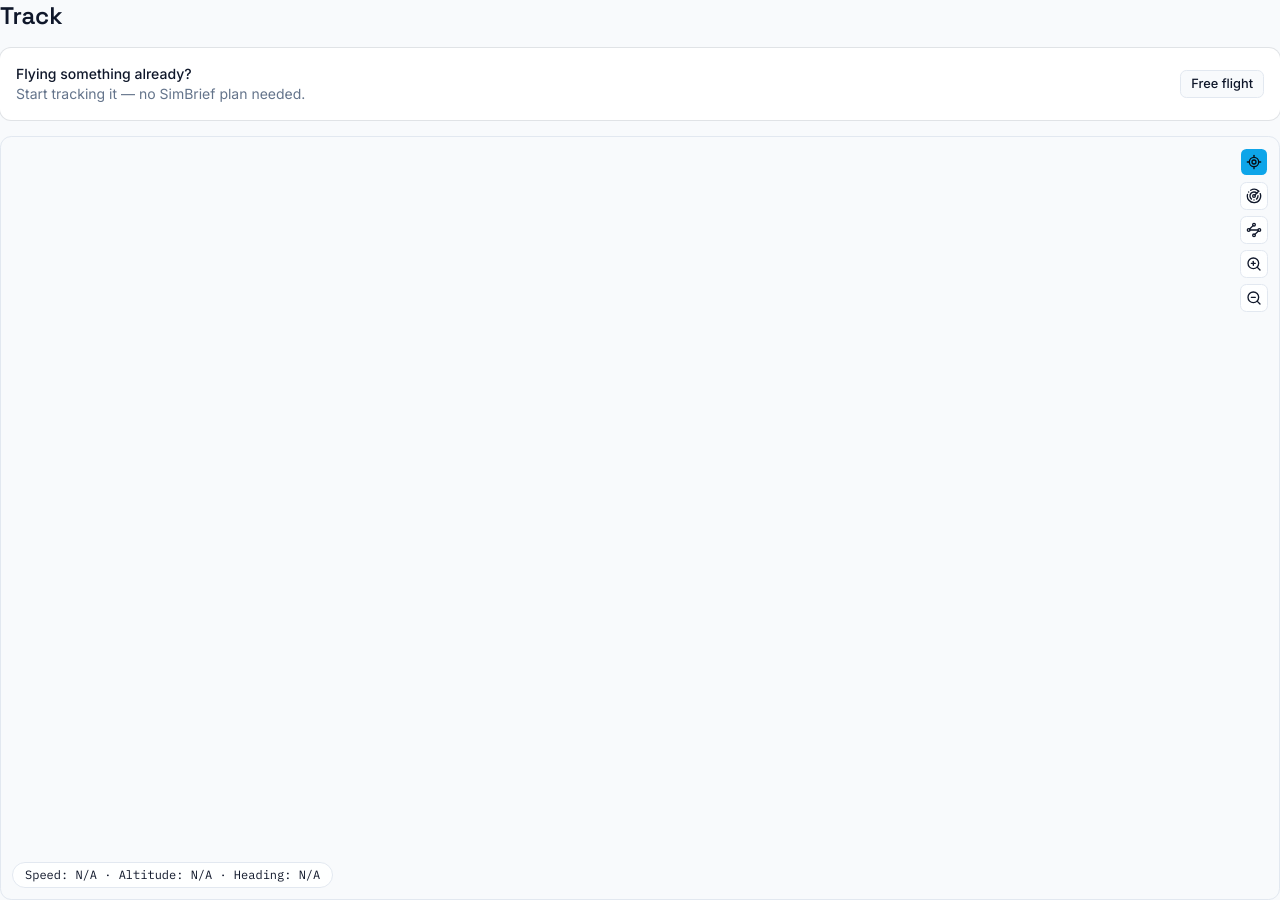
Test: TrackView › free flight (free-flight-tracking.md) › opens the Start a free flight dialog from the Free flight card
The width and height of the screenshot is (1280, 900).
Click the button "Free flight" at (1222, 84), box x1=1180 y1=70 x2=1264 y2=98
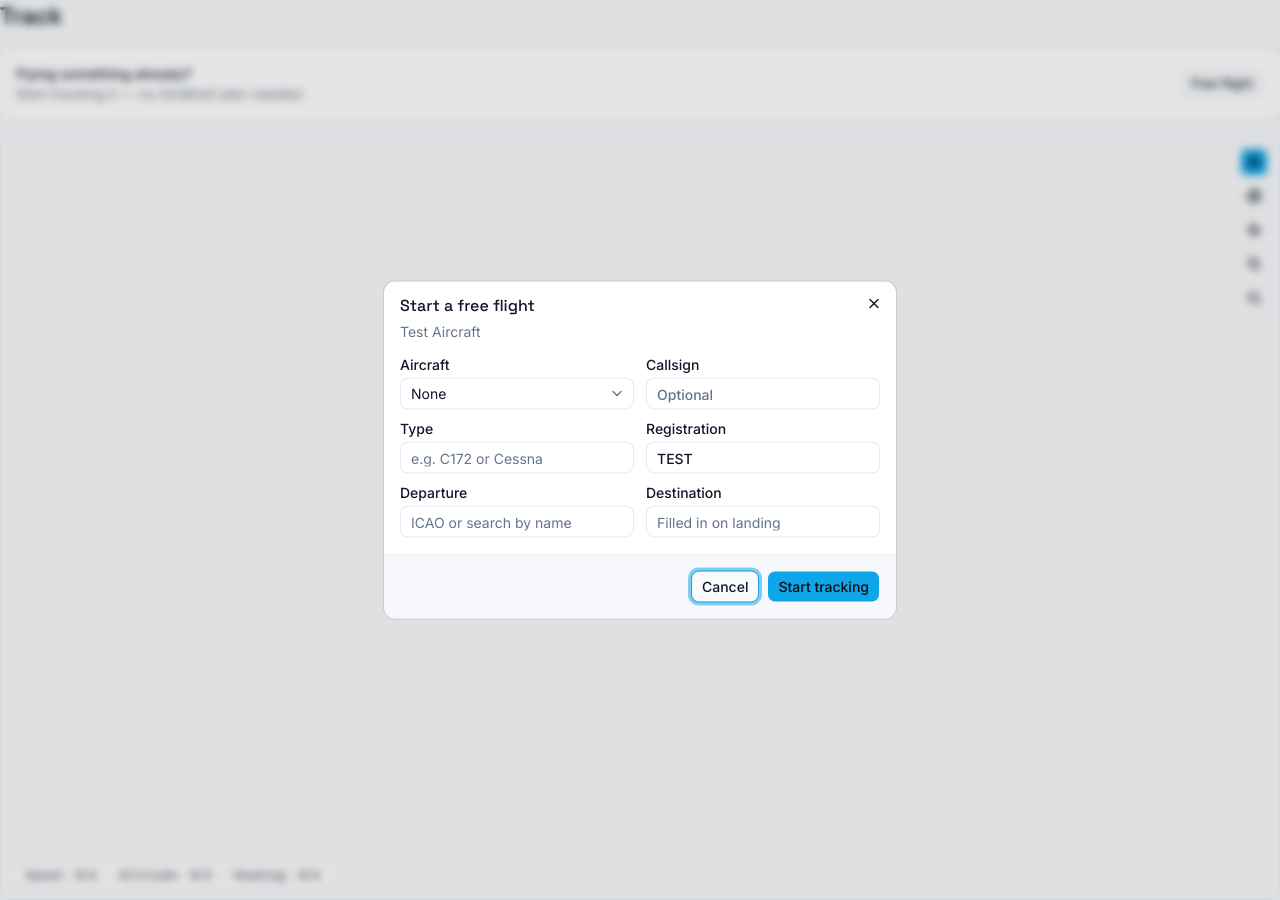
Check: the heading "Start a free flight" is shown, box x1=400 y1=294 x2=535 y2=316
